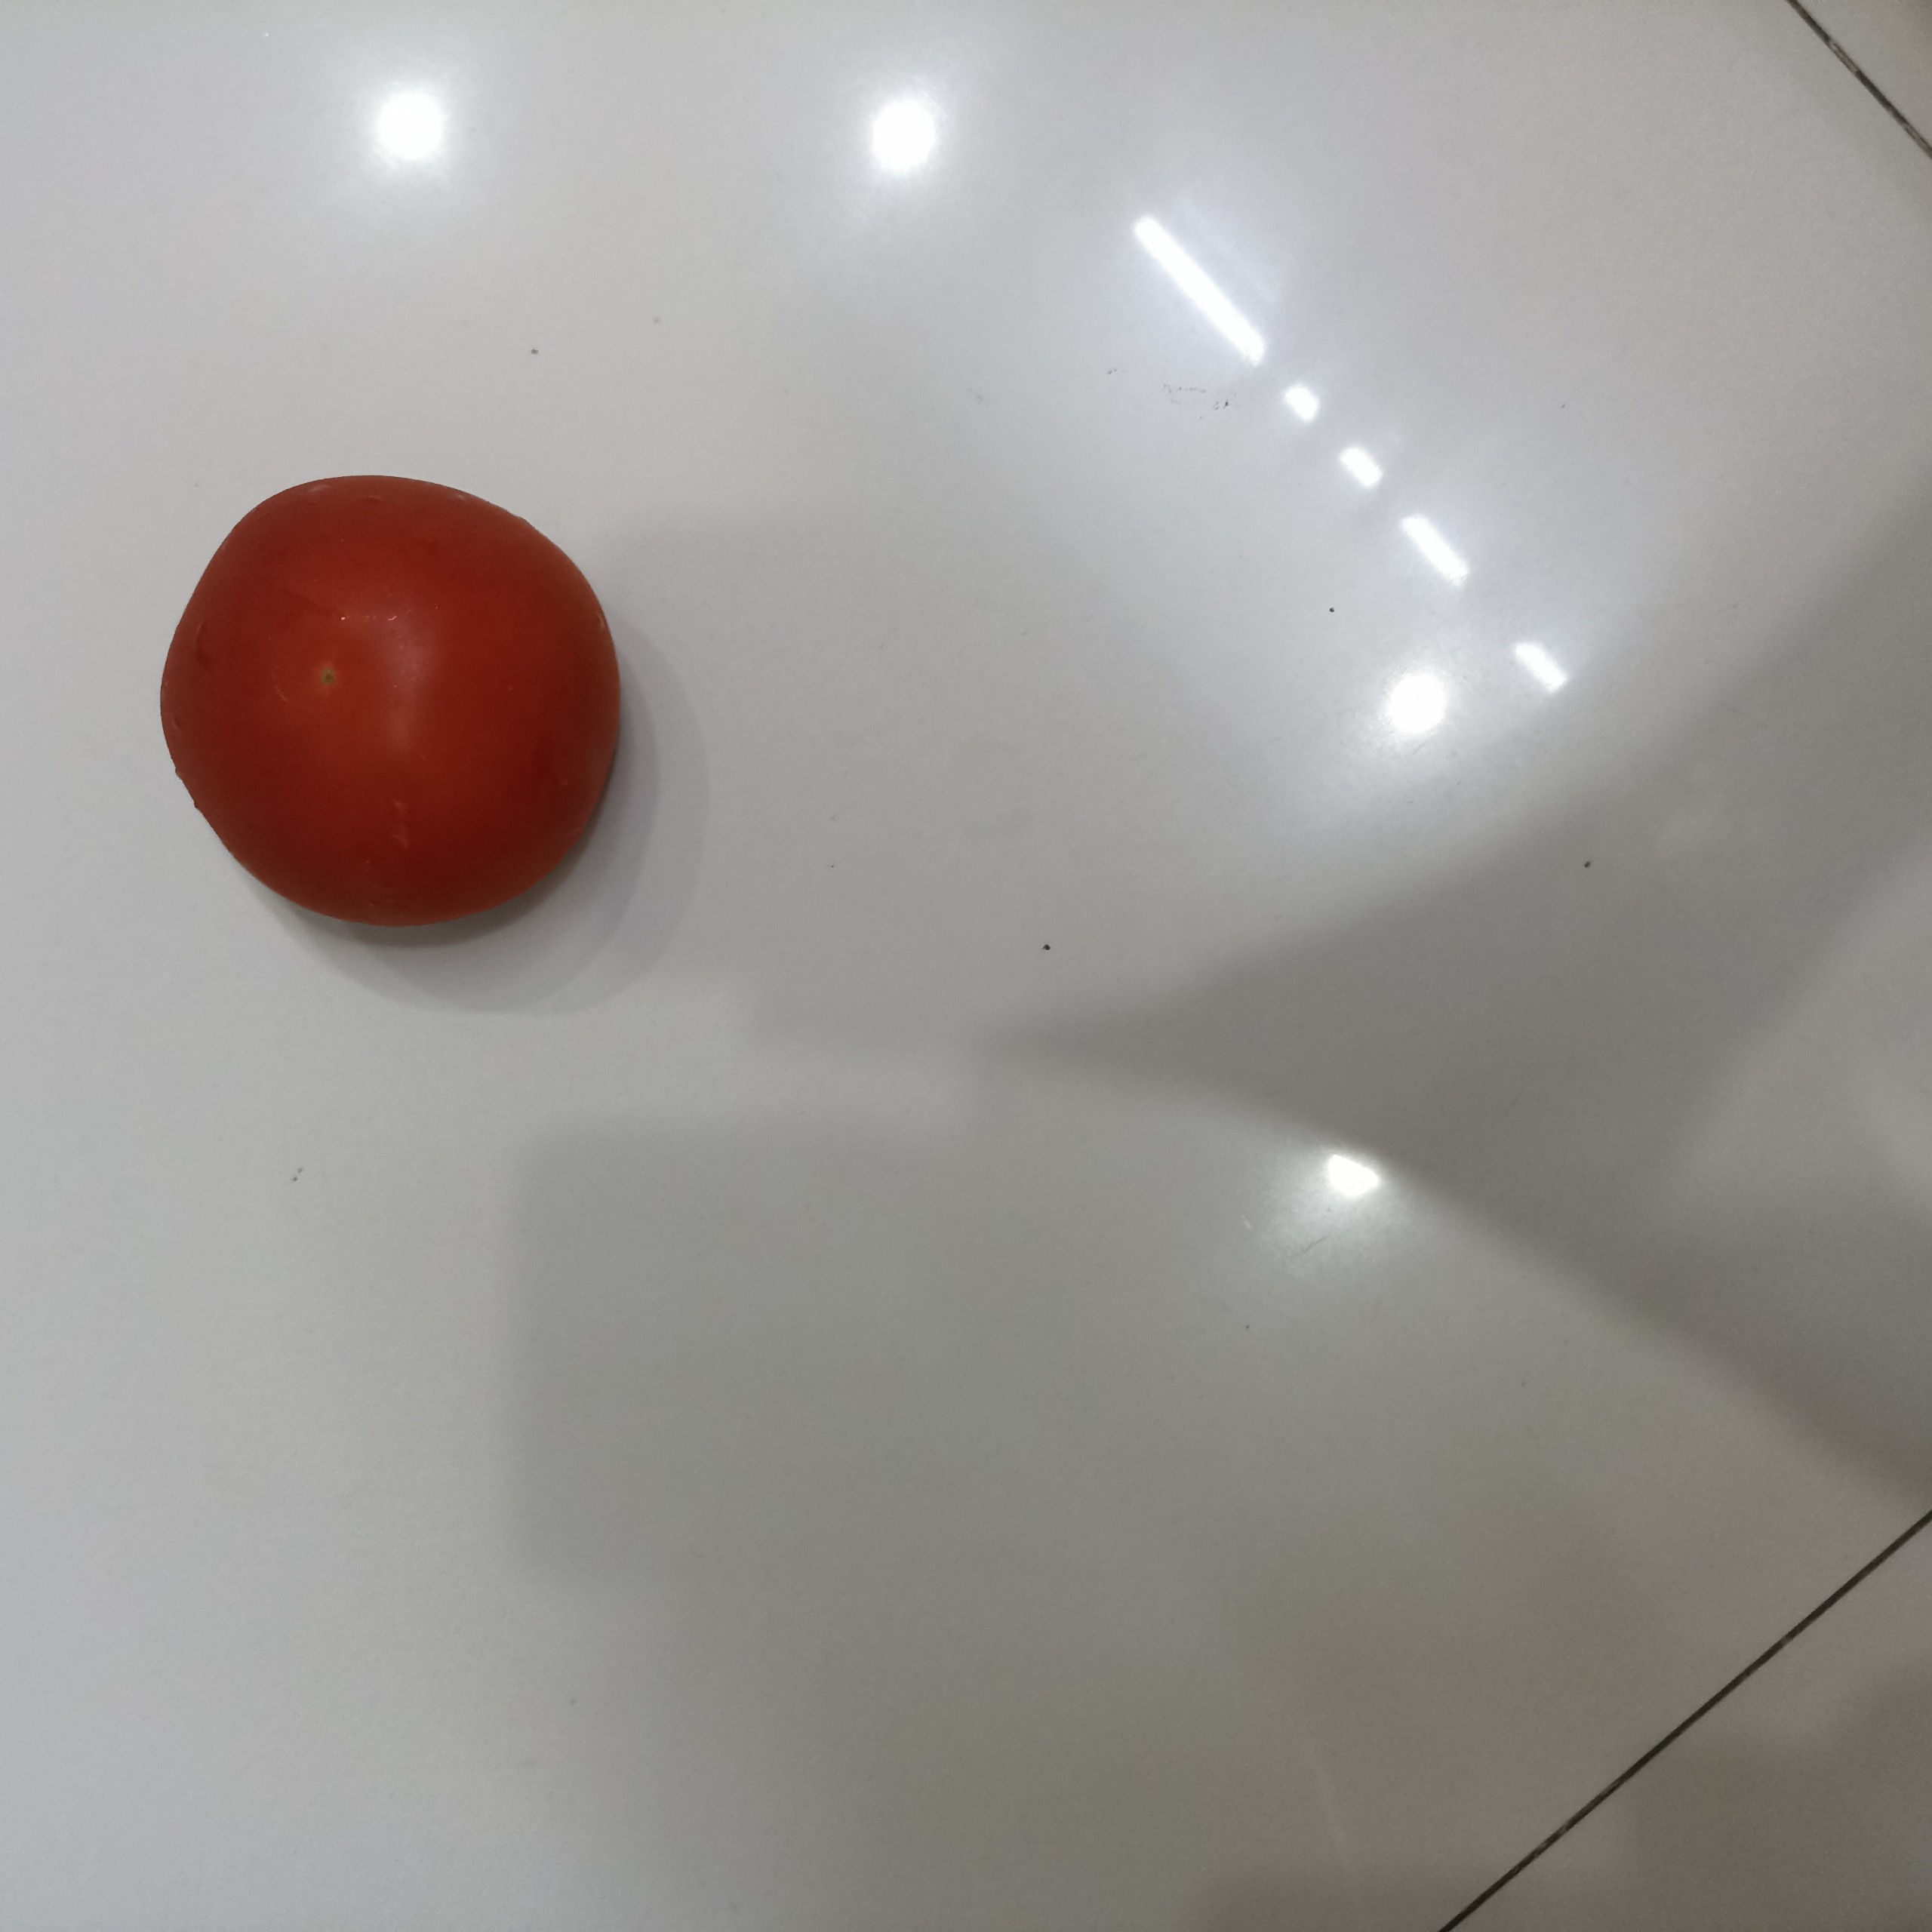Ca chua: (160, 472, 623, 930)
